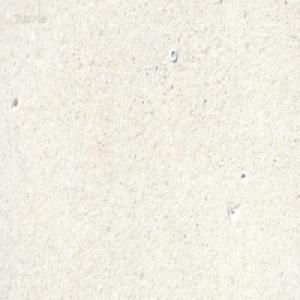Washer: (169, 47, 177, 61)
